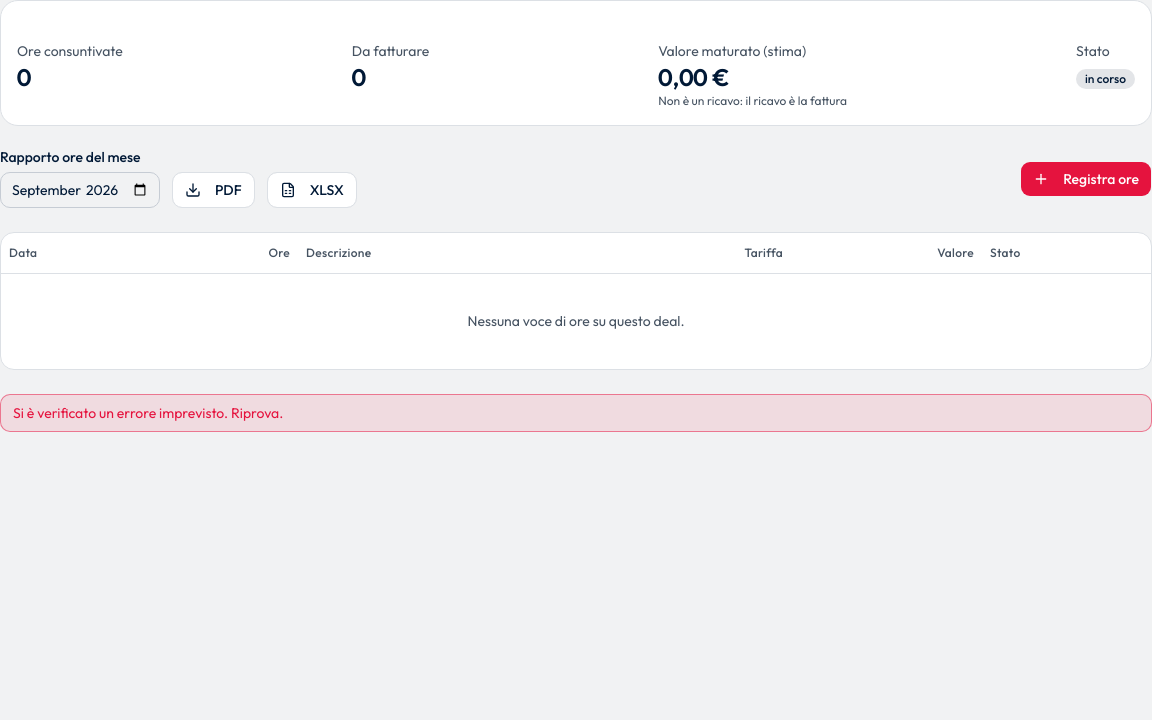
Scenario: TimeEntriesTab › surfaces a closed-period conflict as the server worded it
The image size is (1152, 720).
Click the button "Registra ore". click: (1086, 179)
box: 1020,161 -> 1151,197
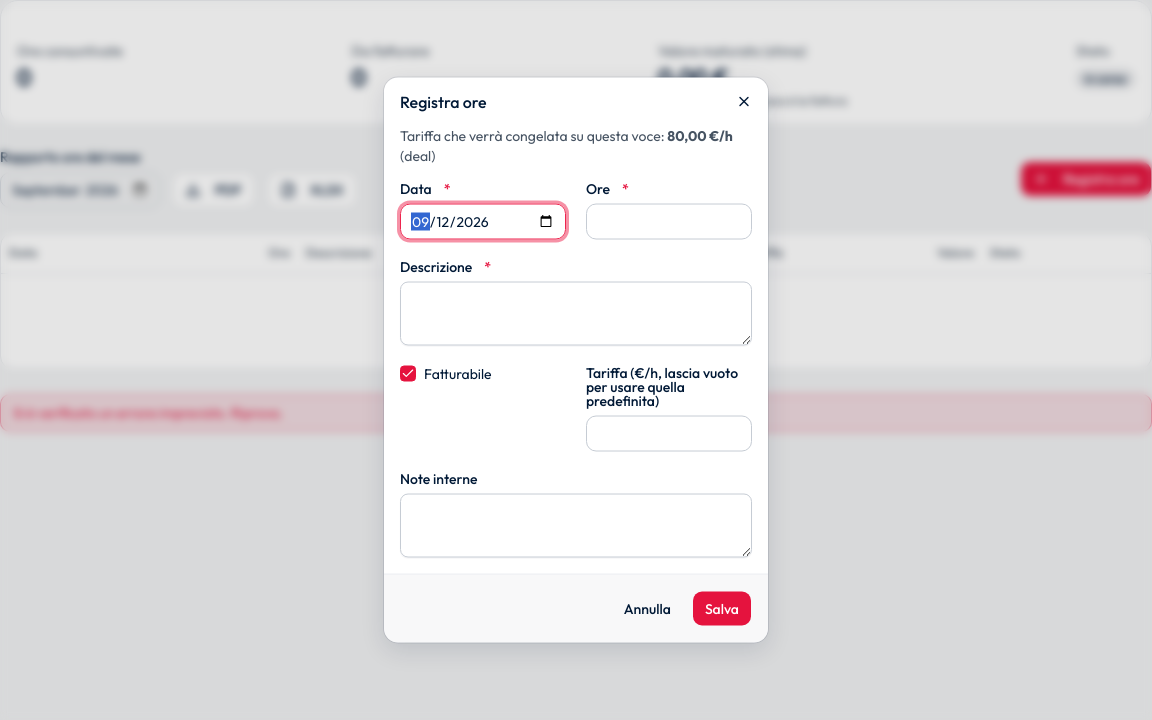
Click the button "Salva". click: (722, 608)
box: 692,590 -> 752,626
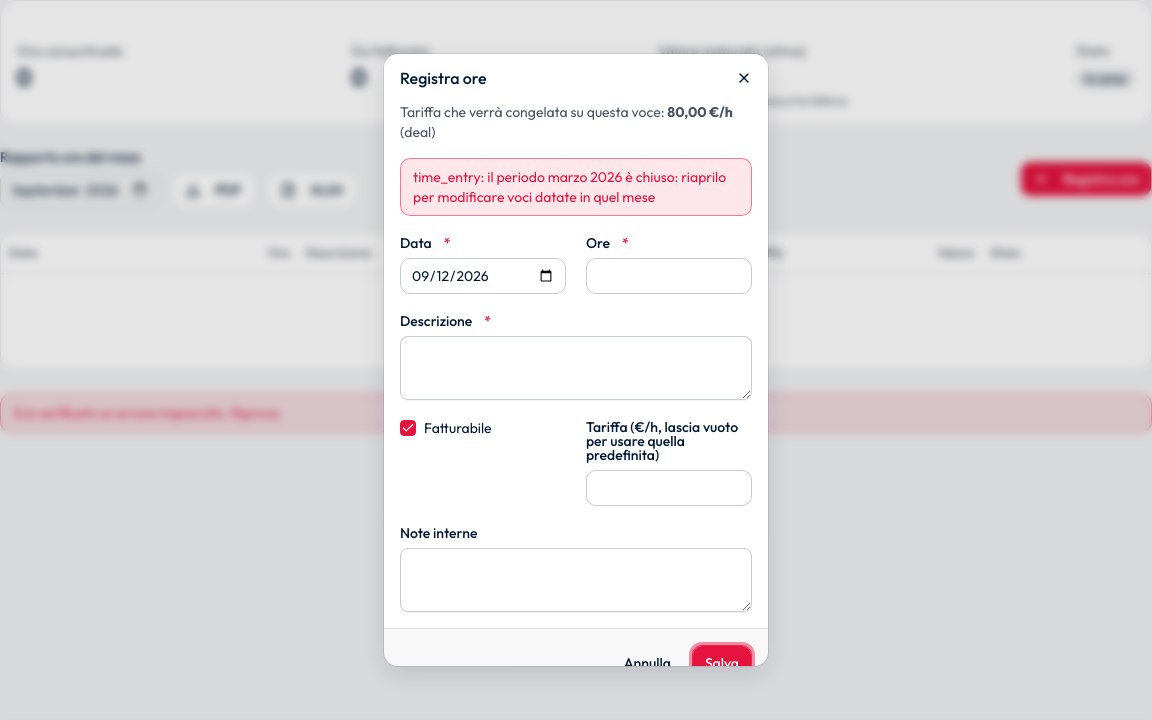
Expected: the text "il periodo marzo 2026 è chiuso" is shown, 413,168 -> 726,206
